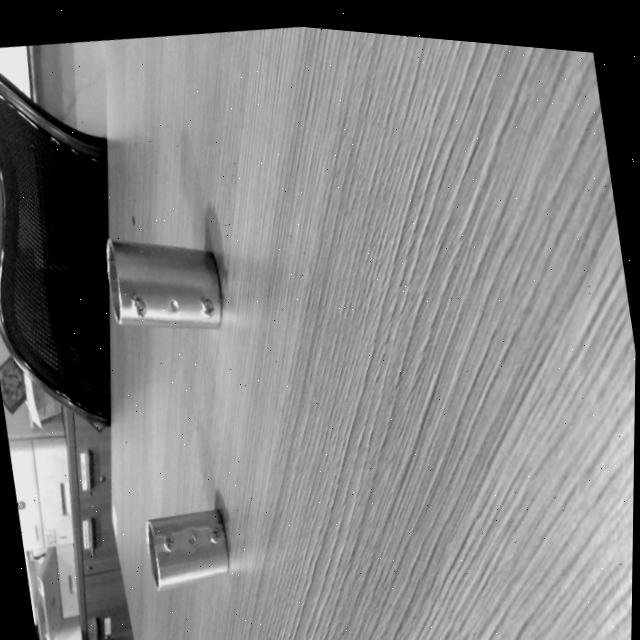Co_Lon: (102, 238, 226, 329)
Co_Nho: (144, 507, 232, 590)
